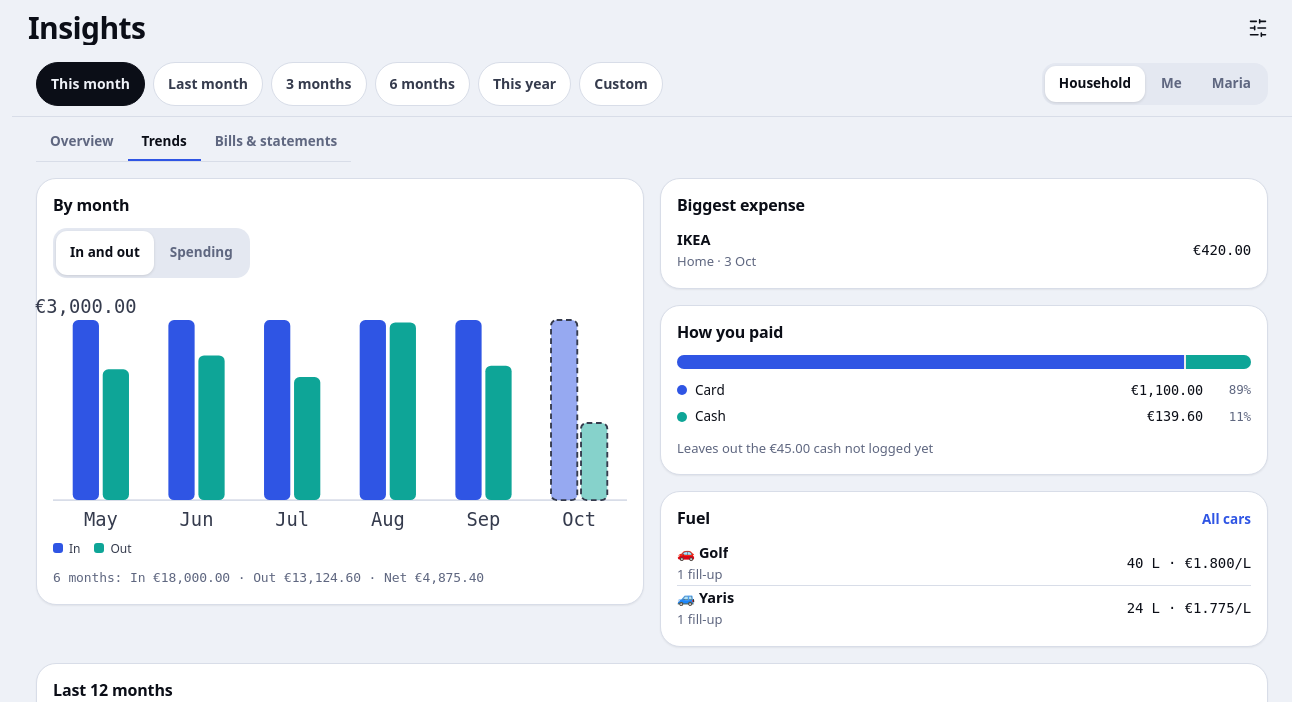
the tabs › stay put when the lens or the period changes
Click the radio button labelled "Maria": (1231, 84) [1198,66,1265,102]
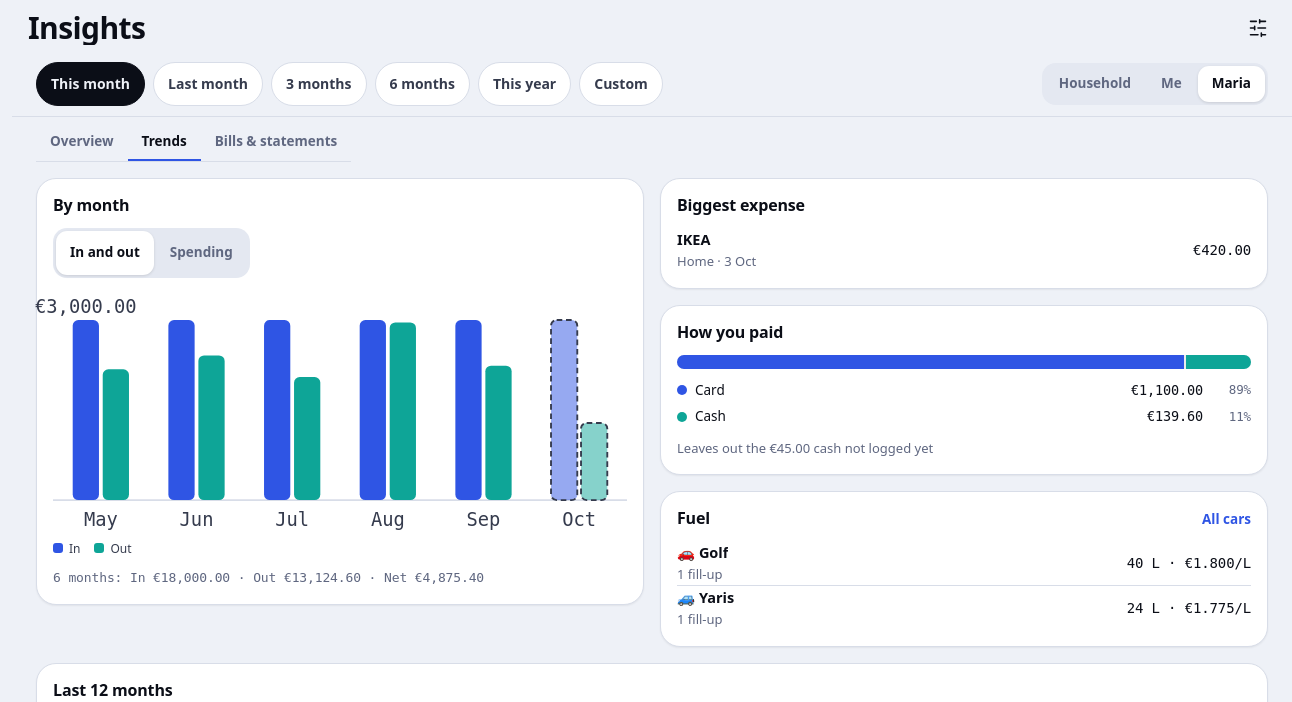
Click the button "Last month": (208, 84) [153,62,263,106]
(page scrolled)
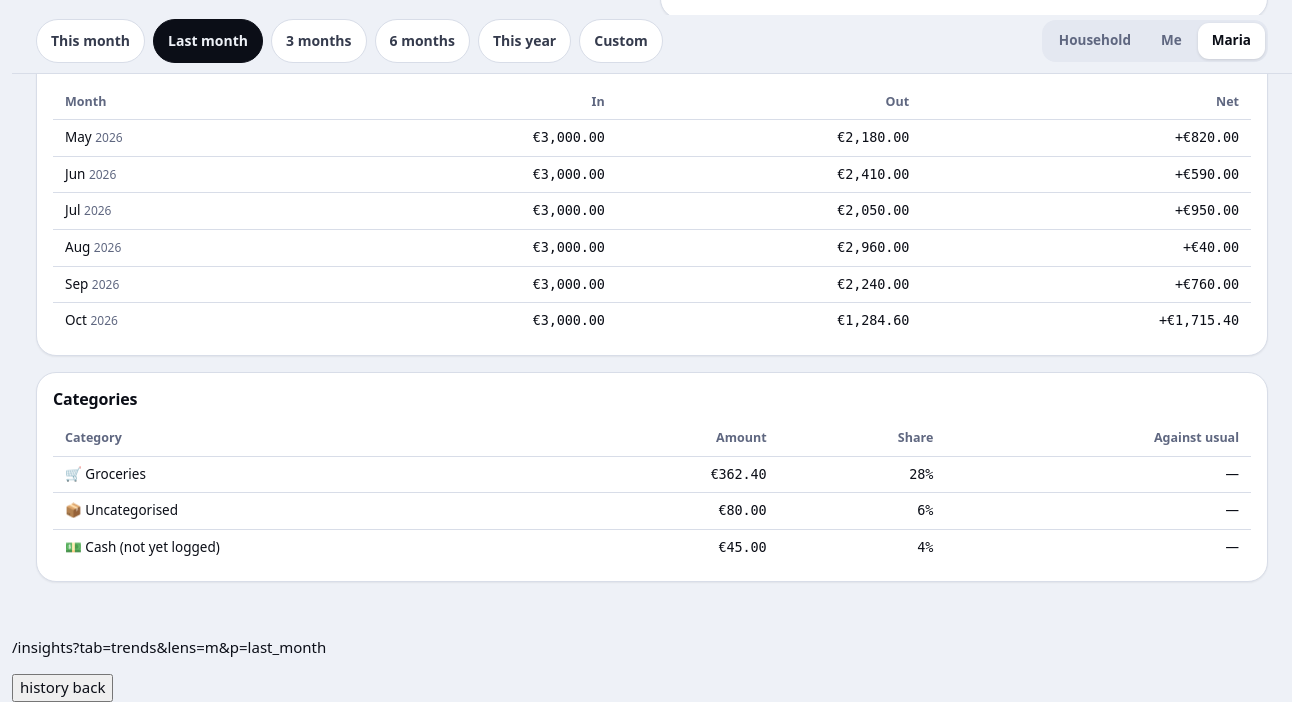
Expected: the text with test id "at" shows "tab=trends", [12,637,326,657]
Expected: the text with test id "at" shows "p=last_month", [12,637,326,657]
